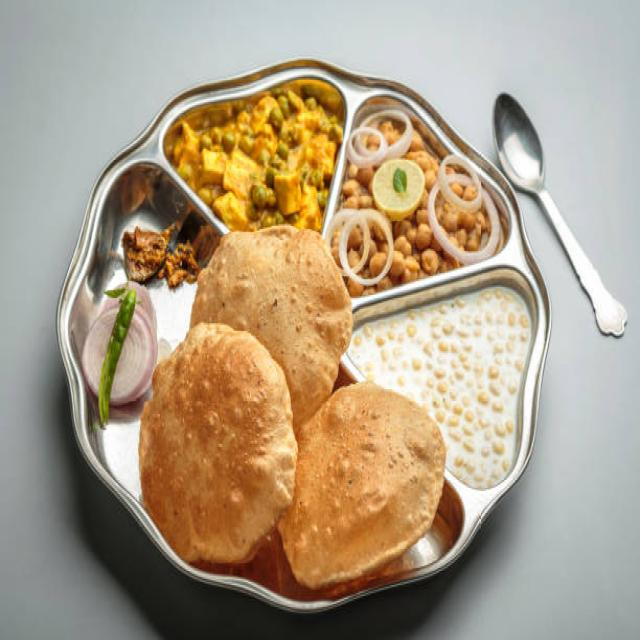KURMA: (169, 92, 338, 235)
POORI: (141, 231, 443, 583)
